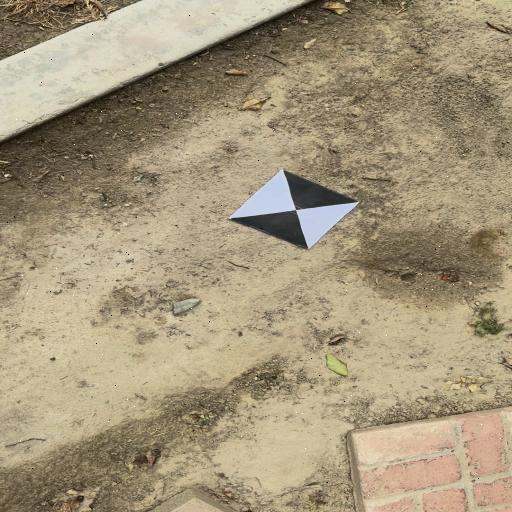target: (229, 170, 358, 249)
